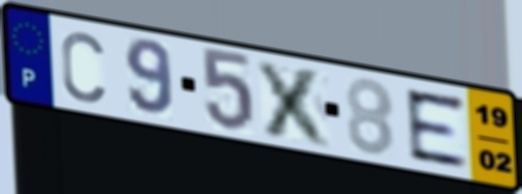5: (198, 46, 258, 136)
8: (344, 76, 397, 159)
9: (122, 36, 176, 121)
C: (57, 28, 108, 106)
E: (401, 86, 472, 170)
X: (253, 56, 336, 151)
